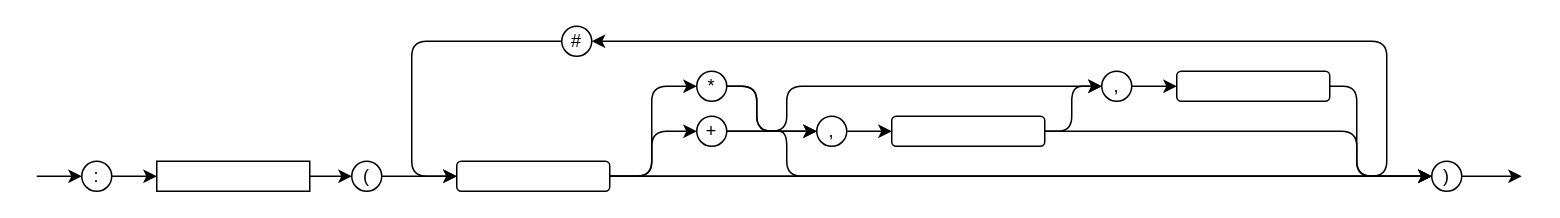
Some shapes in this 1560 by 218 pixel diagram are drawn without their labels. Each missing label, with the centre of its shape:
break selector: (x=1252, y=85)
expression: (x=532, y=175)
flatten: (x=232, y=175)
maximum depth: (x=967, y=130)
